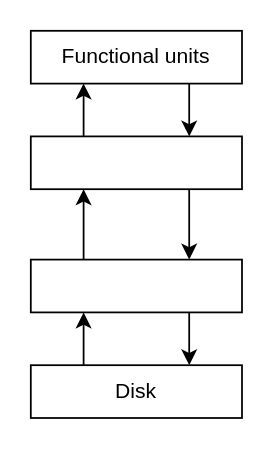
This 273x449 diagram has some shape labels left out. The box of each missing label's shape, as (x1, y1, x2, y2) in pixels:
Cache: (29, 135, 242, 189)
Main memory: (29, 258, 242, 312)
